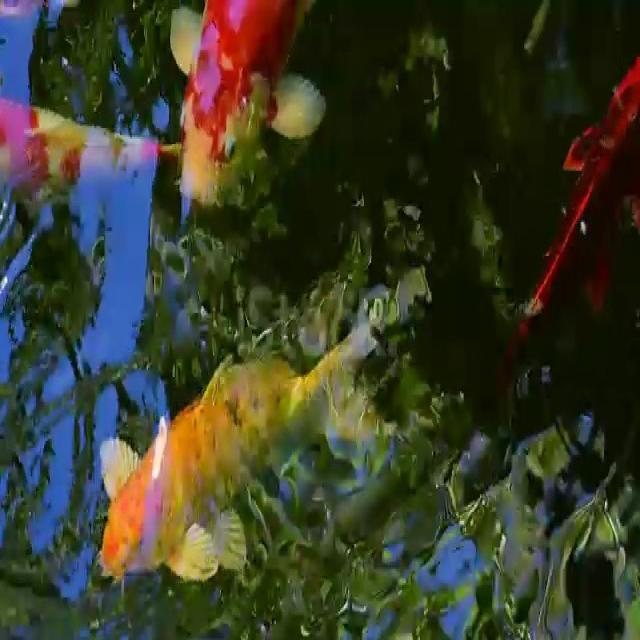fish: (90, 294, 408, 589), (168, 0, 329, 218), (530, 49, 640, 354)
